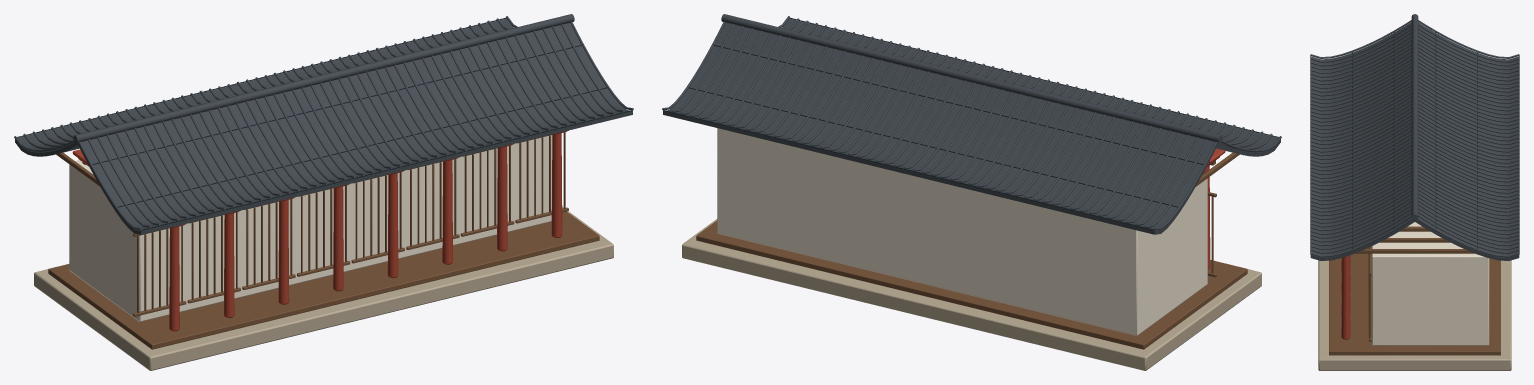
Rendered from palace_hall.glb.
The picture shows the model from 3 angles, left to right: view 1: azimuth 30°, elevation 25°; view 2: azimuth 150°, elevation 25°; view 3: azimuth 270°, elevation 25°; orthographic projection. The views are drawn at different scales.
Visible parts, largest first — view 1: Detail.palace_hall.Tile, Detail.palace_hall.Ivory, Detail.palace_hall.Wood, Detail.palace_hall.Stone, Detail.palace_hall.Red, Detail.palace_hall.Dark; view 2: Detail.palace_hall.Tile, Detail.palace_hall.Ivory, Detail.palace_hall.Stone, Detail.palace_hall.Wood, Detail.palace_hall.Dark; view 3: Detail.palace_hall.Tile, Detail.palace_hall.Ivory, Detail.palace_hall.Wood, Detail.palace_hall.Stone, Detail.palace_hall.Dark, Detail.palace_hall.Red.
Boxes of the visible parts, left/top/right/bottom form: Detail.palace_hall.Tile: left=14, top=14, right=633, bottom=234; Detail.palace_hall.Ivory: left=69, top=135, right=552, bottom=321; Detail.palace_hall.Wood: left=48, top=130, right=599, bottom=349; Detail.palace_hall.Stone: left=34, top=207, right=613, bottom=370; Detail.palace_hall.Red: left=72, top=131, right=566, bottom=331; Detail.palace_hall.Dark: left=17, top=17, right=632, bottom=230; Detail.palace_hall.Tile: left=662, top=14, right=1281, bottom=234; Detail.palace_hall.Ivory: left=717, top=128, right=1207, bottom=335; Detail.palace_hall.Stone: left=682, top=219, right=1261, bottom=370; Detail.palace_hall.Wood: left=696, top=152, right=1247, bottom=349; Detail.palace_hall.Dark: left=663, top=17, right=1278, bottom=230; Detail.palace_hall.Tile: left=1310, top=14, right=1519, bottom=260; Detail.palace_hall.Ivory: left=1372, top=222, right=1489, bottom=345; Detail.palace_hall.Wood: left=1329, top=226, right=1500, bottom=355; Detail.palace_hall.Stone: left=1318, top=260, right=1511, bottom=370; Detail.palace_hall.Dark: left=1310, top=32, right=1519, bottom=254; Detail.palace_hall.Red: left=1341, top=255, right=1350, bottom=339.
Bounding box in the file's own units: 18.2 × 6.91 × 8.03.
